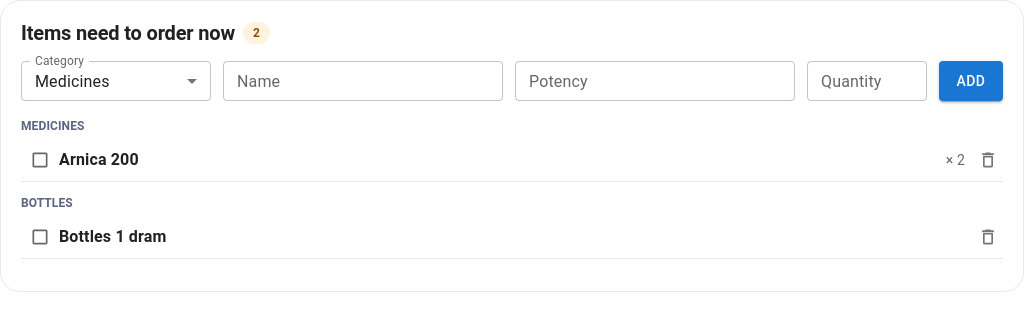
Test: requires a name for medicines
Click the button "Add": (971, 81) [939,61,1003,101]
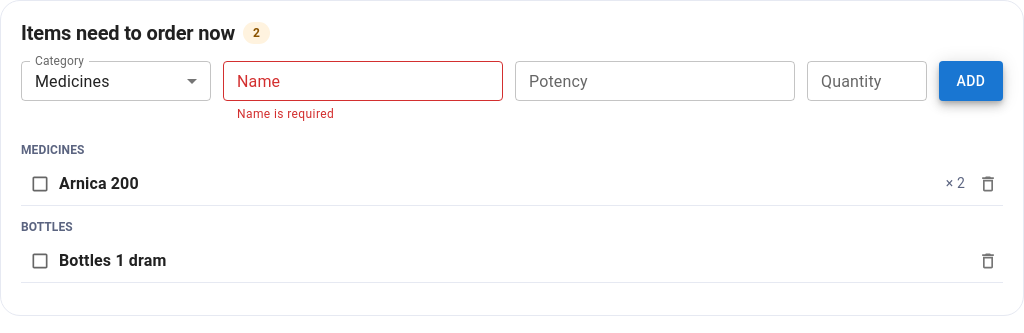
Expected: the text "Name is required" is shown, [237,107,334,121]
